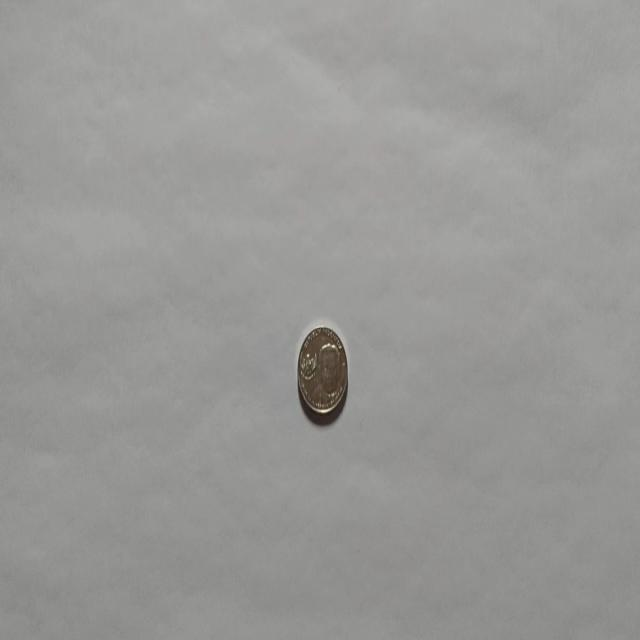seratus rupiah: (296, 323, 348, 418)
